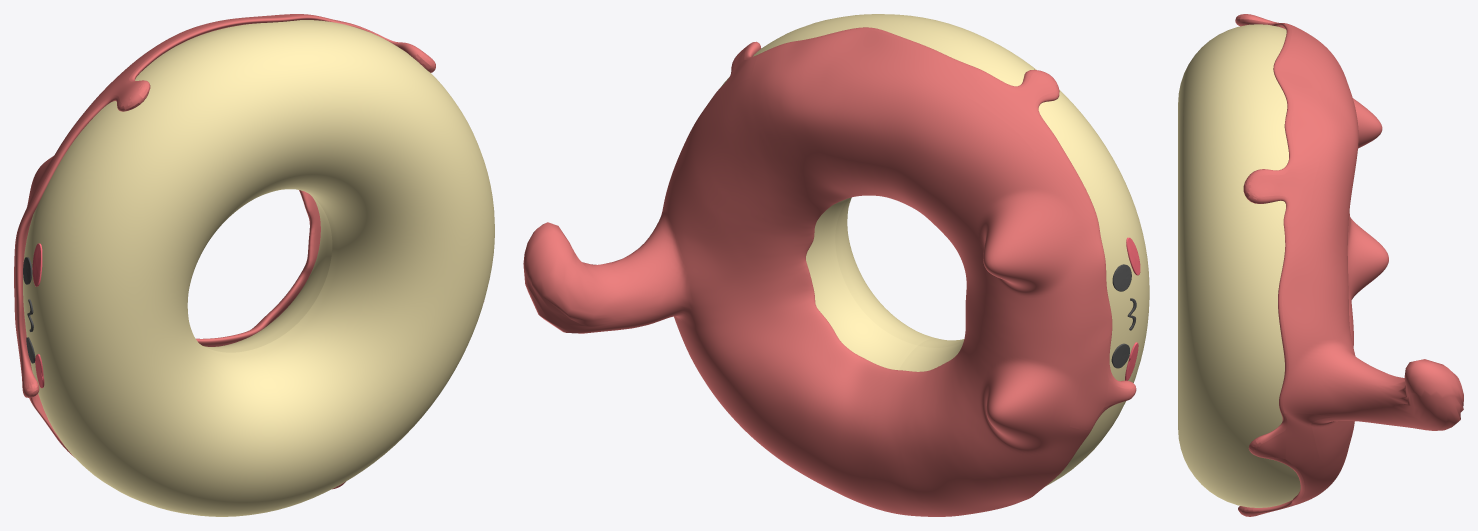
The model's file is donut_cat.glb.
3 views of the same model, side by side, from view 1: azimuth 30°, elevation 25°; view 2: azimuth 150°, elevation 25°; view 3: azimuth 270°, elevation 25° (orthographic). The views are drawn at different scales.
Parts seen in each view (by area): view 1: Donut Cat!, polewka_0, twarz_1; view 2: polewka_0, Donut Cat!, twarz_1; view 3: Donut Cat!, polewka_0.
Part boxes in pixels (left/top/right/bottom): Donut Cat!: left=23, top=20, right=494, bottom=516; polewka_0: left=14, top=14, right=484, bottom=489; twarz_1: left=23, top=243, right=44, bottom=388; polewka_0: left=523, top=27, right=1136, bottom=516; Donut Cat!: left=721, top=14, right=1149, bottom=486; twarz_1: left=1111, top=237, right=1140, bottom=380; Donut Cat!: left=1178, top=24, right=1300, bottom=507; polewka_0: left=1235, top=14, right=1463, bottom=516.
Size of the model in its own units: 0.2119 by 0.1843 by 0.1095.
